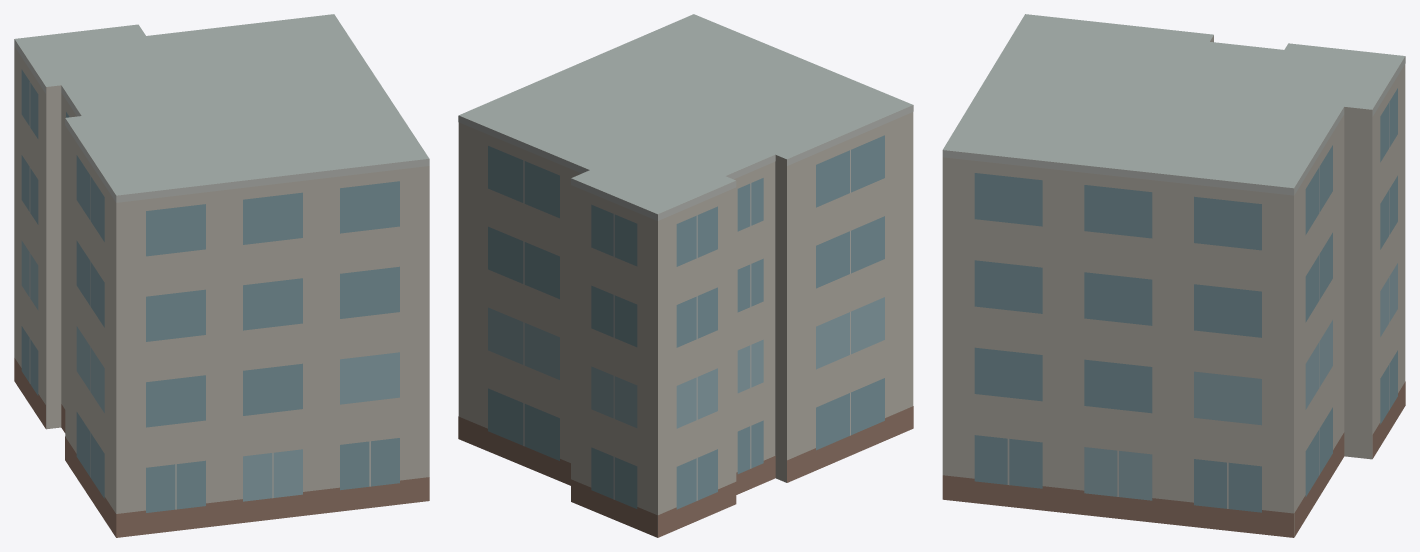
Rendered from survey-upis-32873352.glb.
3 views of the same model, side by side, from view 1: azimuth 30°, elevation 25°; view 2: azimuth 150°, elevation 25°; view 3: azimuth 270°, elevation 25° (orthographic). The views are drawn at different scales.
Parts seen in each view (by area): view 1: survey-upis-32873352.tmp; view 2: survey-upis-32873352.tmp; view 3: survey-upis-32873352.tmp.
Boxes of the visible parts, box(x1,y1,x2,y2) form: survey-upis-32873352.tmp: box(14, 14, 429, 537); survey-upis-32873352.tmp: box(458, 14, 913, 537); survey-upis-32873352.tmp: box(942, 14, 1405, 537).
Bounding box in the file's own units: 12.41 × 11.6 × 13.93.
